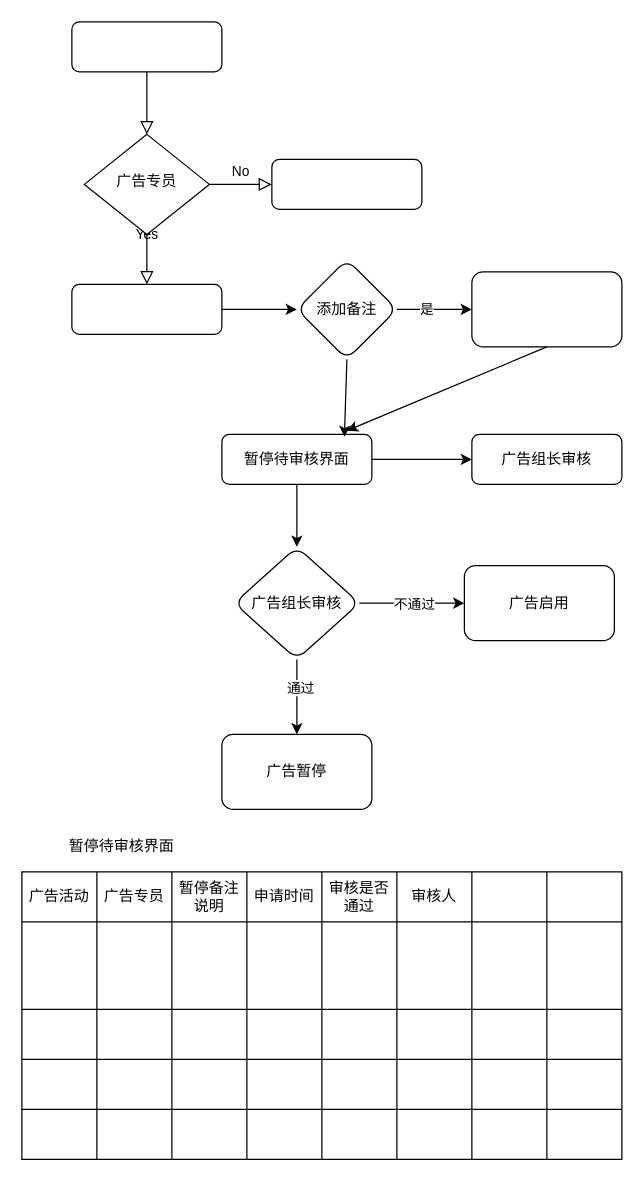
Image size: 644x1181. Some labels were removed from this diagram. The shapes that lost their labels are listed below. From the top down, each one's centre as x and y in pixels, then its label:
At pixel 146 46: "登录系统".
At pixel 346 183: "暂停".
At pixel 146 308: "暂停待审核".
At pixel 546 309: "增加备注".
